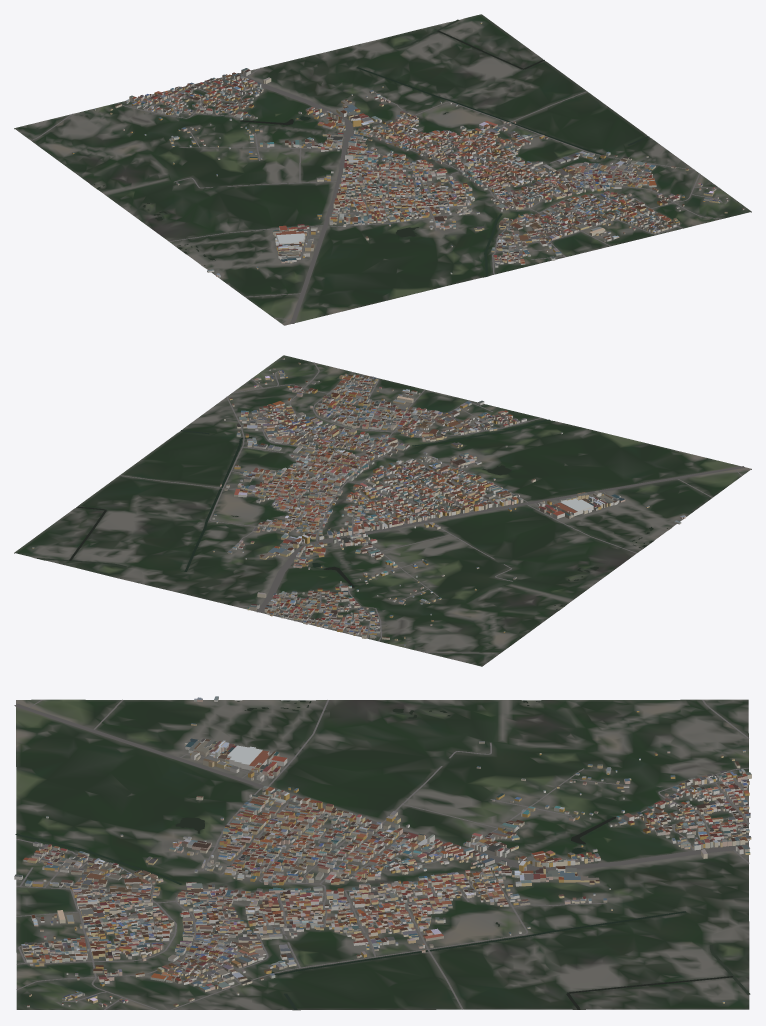
The picture shows the model from 3 angles, top to bottom: view 1: azimuth 30°, elevation 25°; view 2: azimuth 150°, elevation 25°; view 3: azimuth 270°, elevation 25°; orthographic projection. The views are drawn at different scales.
Parts seen in each view (by area): view 1: ground, buildings, roads, water; view 2: ground, buildings, roads, water; view 3: ground, buildings, roads, water.
Boxes of the visible parts, x1,y1,x2,y2 form: ground: (14, 14, 751, 325); buildings: (72, 22, 744, 277); roads: (31, 67, 722, 323); water: (94, 19, 649, 276); ground: (14, 355, 751, 666); buildings: (32, 358, 685, 646); roads: (119, 362, 744, 654); water: (37, 419, 667, 609); ground: (16, 699, 749, 1010); buildings: (14, 696, 751, 1007); roads: (14, 699, 749, 1009); water: (15, 700, 750, 1009).
Bounding box in the file's own units: 1412 × 21.97 × 1412.
